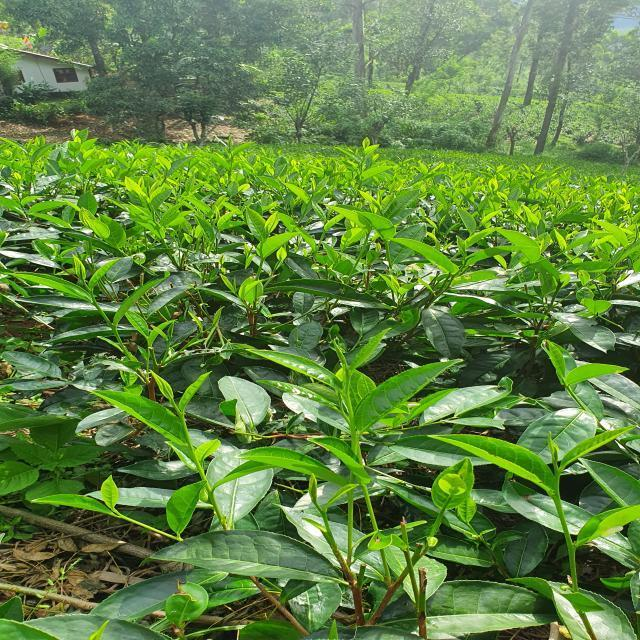Stem: (552, 495, 565, 520), (179, 414, 189, 435), (121, 515, 136, 524), (345, 396, 352, 410), (321, 511, 328, 525), (89, 292, 96, 303), (566, 386, 574, 394), (259, 242, 264, 249)
